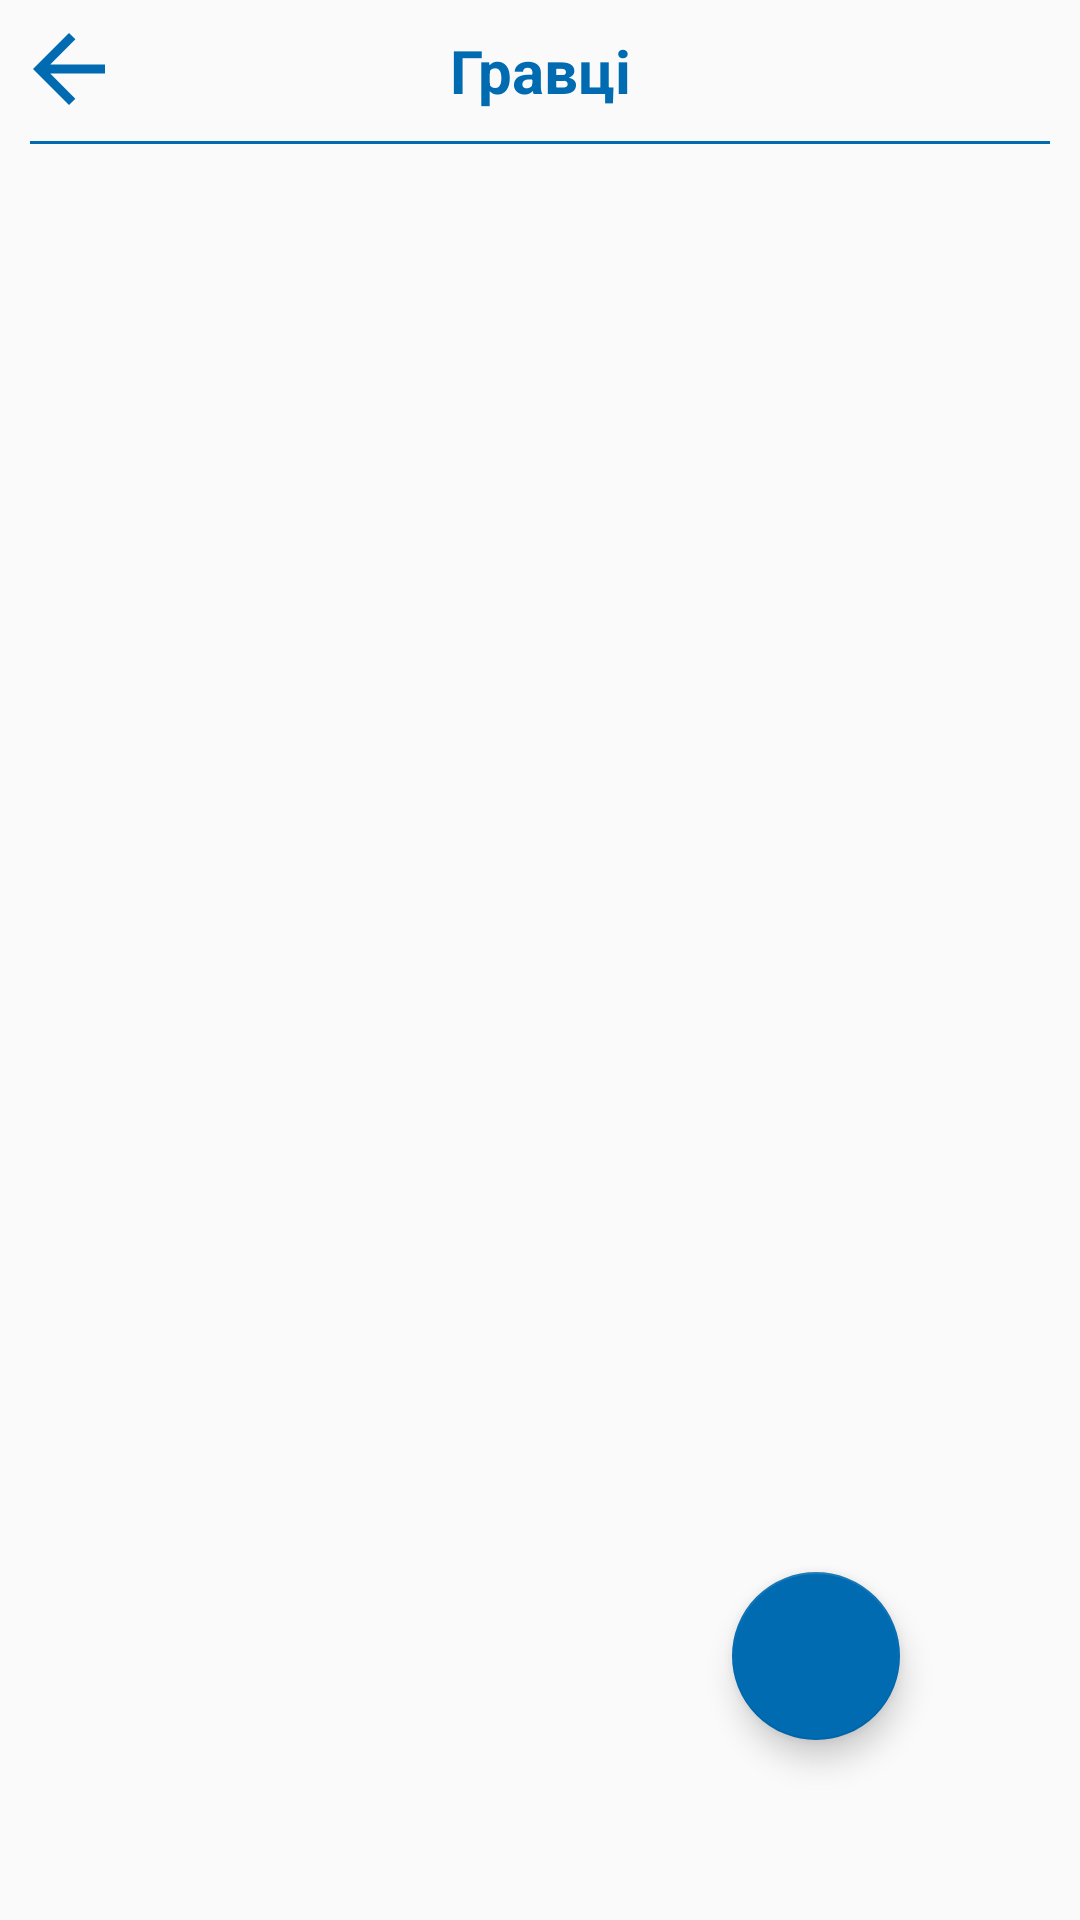

Icons on this 1080px×1920px Android screen, each with its box as {"left": x1, "top": y1, "right": x2, "bottom": y2}:
arrow back: {"left": 33, "top": 33, "right": 105, "bottom": 105}
